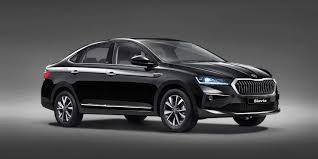skoda: (248, 71, 259, 79)
